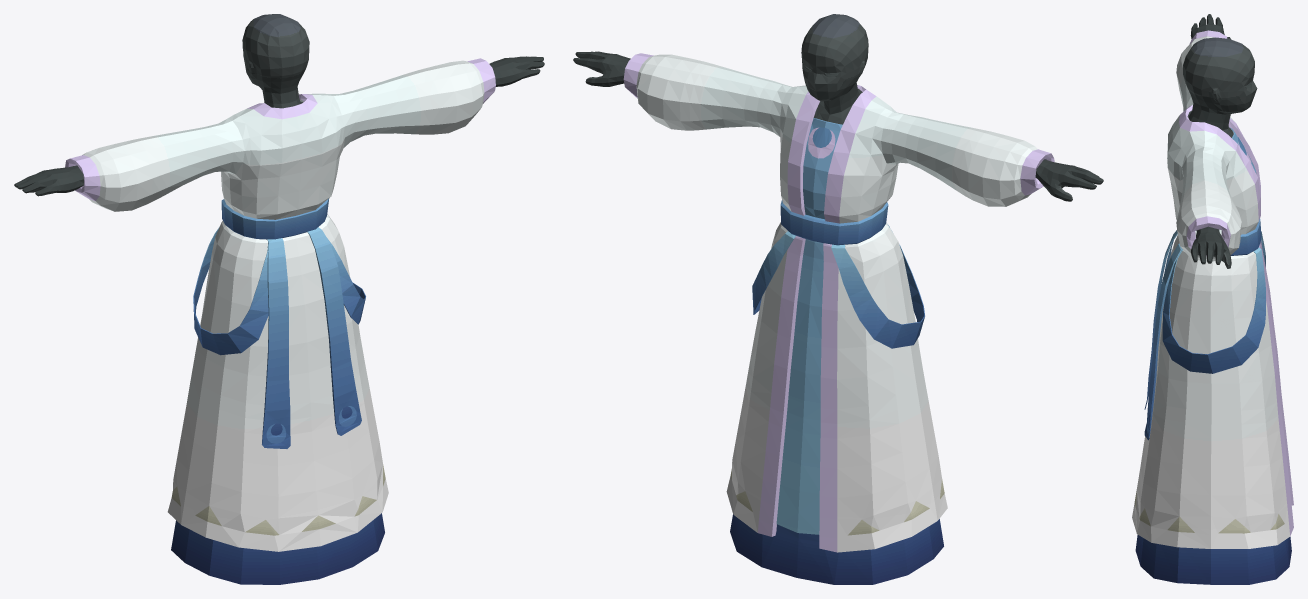
Rendered from CharSkyNPC_Body_MoonlightDress.glb.
3 renders of one model, left to right at view 1: azimuth 30°, elevation 25°; view 2: azimuth 150°, elevation 25°; view 3: azimuth 270°, elevation 25°, orthographic. The views are drawn at different scales.
Visible parts, largest first — view 1: CharSkyNPC_Body_MoonlightDress; view 2: CharSkyNPC_Body_MoonlightDress; view 3: CharSkyNPC_Body_MoonlightDress.
Boxes of the visible parts, x1,y1,x2,y2 form: CharSkyNPC_Body_MoonlightDress: (14, 14, 544, 584); CharSkyNPC_Body_MoonlightDress: (573, 14, 1103, 584); CharSkyNPC_Body_MoonlightDress: (1132, 14, 1293, 584).
Bounding box in the file's own units: 14.22 × 13.72 × 3.94.
Materials: 1 (1 with a texture image).
